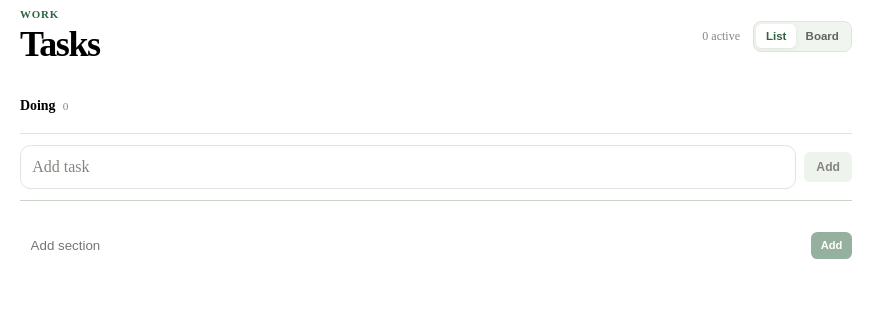
Test: ProjectTasks › creates a task in the selected section
Type "Ship the change" into the dropdown named "Add task to Doing".
click(408, 167); type("Ship the change")  # box top-left (28, 152), bottom-right (787, 181)
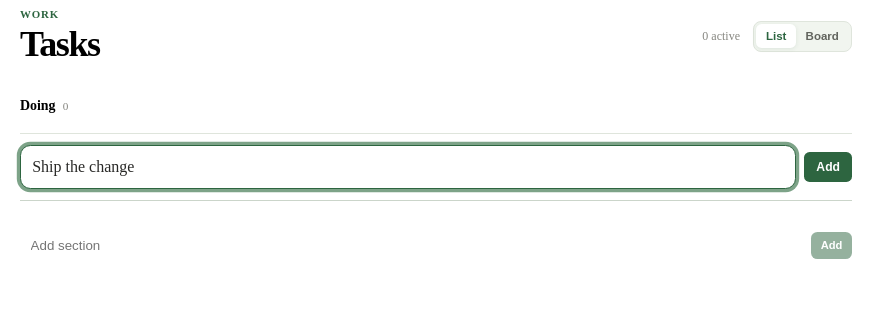
Click the button with aria-label "Add task to Doing".
click(828, 167)  # box top-left (804, 152), bottom-right (852, 182)
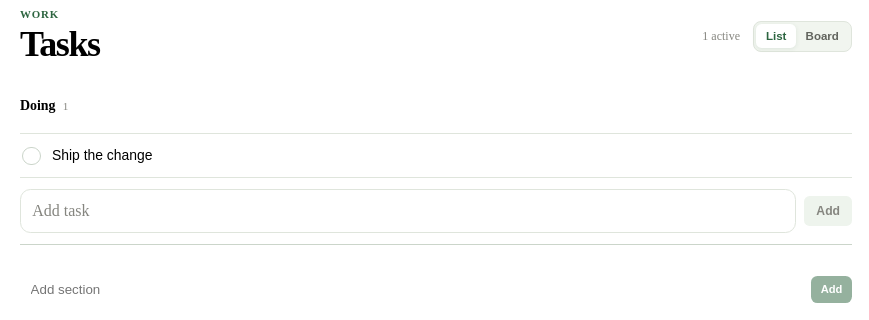
Result: the text "Ship the change" is shown at top-left (52, 147), bottom-right (152, 163)
